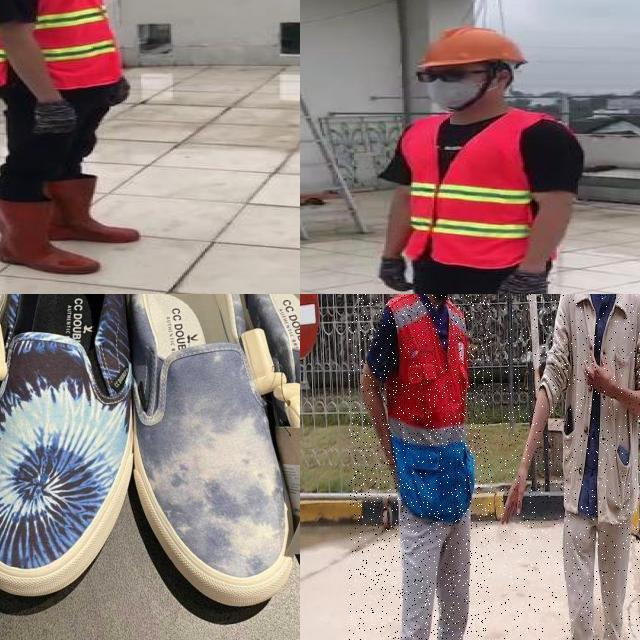Sandals: (115, 294, 300, 616), (0, 294, 151, 622)
boots: (0, 192, 103, 276), (50, 175, 140, 245)
face_mask: (414, 66, 492, 110)
glasses: (412, 66, 479, 88)
hand_glove: (20, 100, 77, 138), (494, 269, 554, 294), (377, 255, 416, 290)
head_helmet: (413, 23, 528, 68)
person: (369, 20, 590, 294), (499, 294, 640, 640), (353, 294, 491, 640), (0, 0, 145, 270)
vest: (401, 113, 558, 265), (382, 294, 481, 517), (0, 0, 125, 87)
